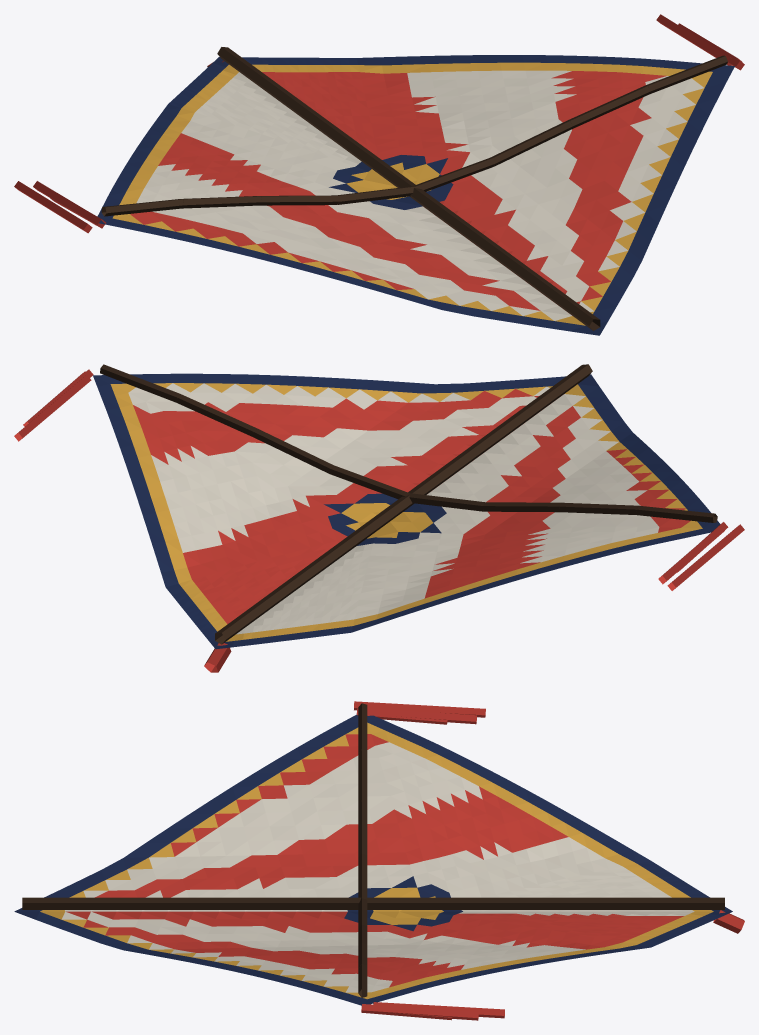
Rendered from kite_swallow.glb.
3 renders of one model, top to bottom at view 1: azimuth 30°, elevation 25°; view 2: azimuth 150°, elevation 25°; view 3: azimuth 270°, elevation 25°, orthographic. The views are drawn at different scales.
Parts seen in each view (by area): view 1: kite_swallow; view 2: kite_swallow; view 3: kite_swallow.
Part boxes in pixels (box(x1,y1,x2,y2)): kite_swallow: box(14, 14, 744, 335); kite_swallow: box(14, 364, 744, 672); kite_swallow: box(14, 701, 744, 1020).
Bounding box in the file's own units: 1.77 × 0.2327 × 1.78.
